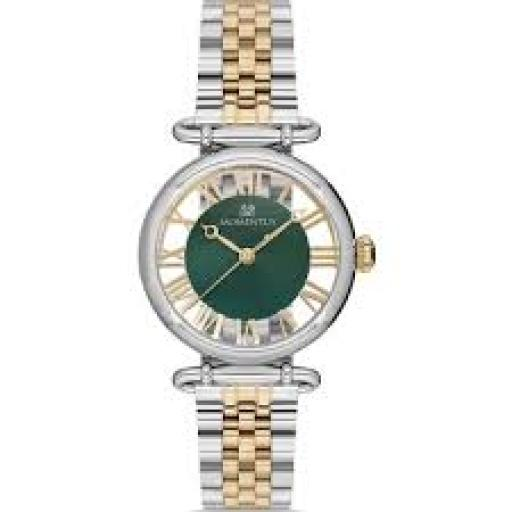KolSaati: (132, 2, 384, 512)
